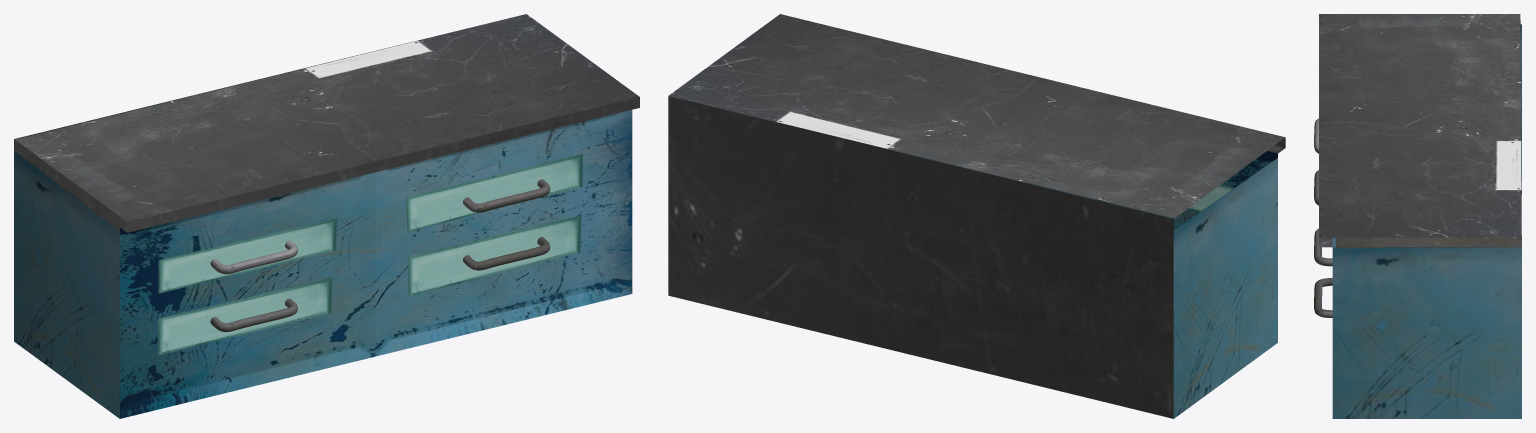
File: KitchenCounter.fbx
3 renders of one model, left to right at view 1: azimuth 30°, elevation 25°; view 2: azimuth 150°, elevation 25°; view 3: azimuth 270°, elevation 25°, orthographic. The views are drawn at different scales.
Parts seen in each view (by area): view 1: Cube.002; view 2: Cube.002; view 3: Cube.002.
Boxes of the visible parts, x1=… form: Cube.002: x1=14, y1=14, x2=639, y2=418; Cube.002: x1=668, y1=14, x2=1285, y2=418; Cube.002: x1=1314, y1=14, x2=1521, y2=418.
Bounding box in the file's own units: 2.66 × 1.04 × 1.
